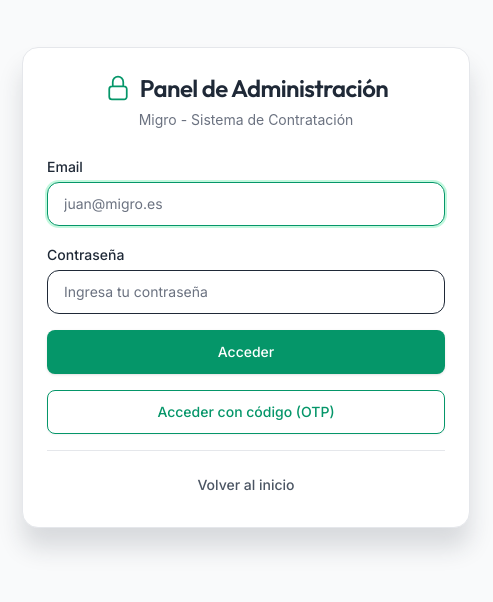
Test case: AdminLogin - Tests Automatizados › debe mostrar error si los campos están vacíos
Click the button "Acceder".
click(246, 352)  # box [47, 330, 445, 374]
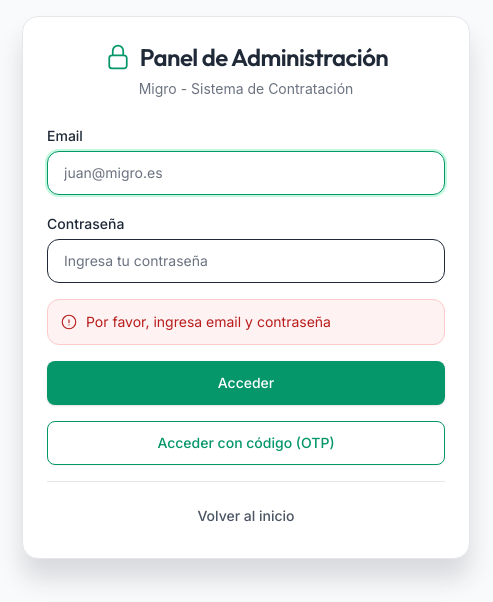
Expected: the text "Por favor, ingresa email y contraseña" is shown, [86, 312, 331, 332]
